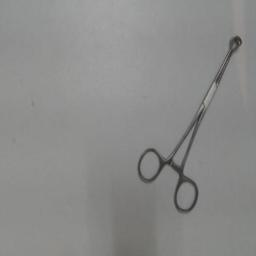Babcock Tissue Forceps: (135, 32, 243, 216)
